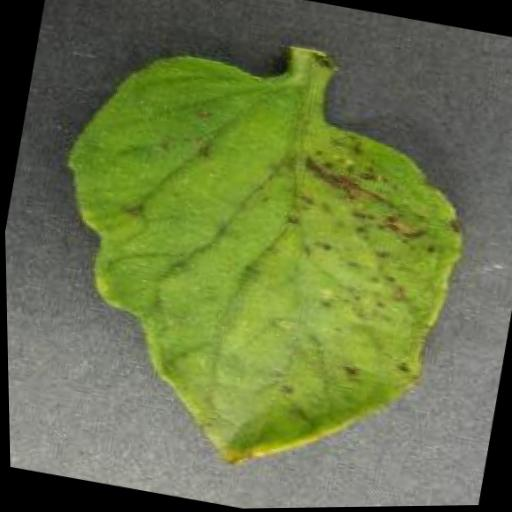Bacterial Spot: (15, 29, 495, 508)
